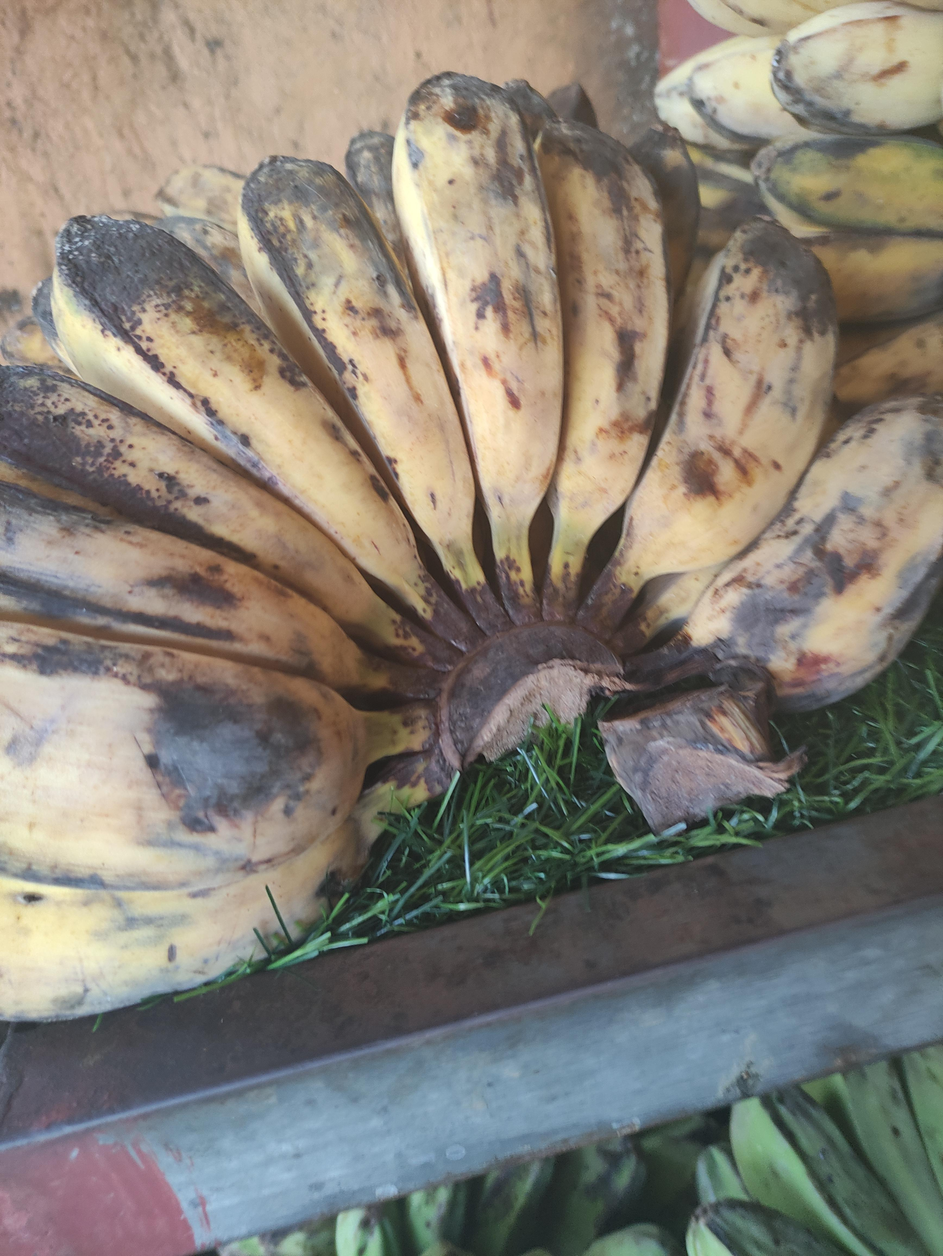ripe: (0, 75, 943, 1024), (655, 0, 943, 150)
underripe: (220, 1115, 727, 1256), (686, 1043, 943, 1256), (752, 134, 943, 410)
